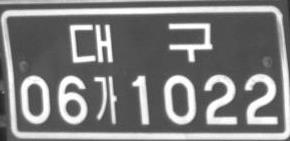0: (163, 73, 196, 124), (19, 73, 50, 123)
1: (129, 74, 158, 124)
2: (244, 73, 278, 125), (203, 74, 237, 125)
6: (58, 74, 88, 125)
가: (93, 75, 118, 124)
대구_D: (68, 21, 212, 64)
